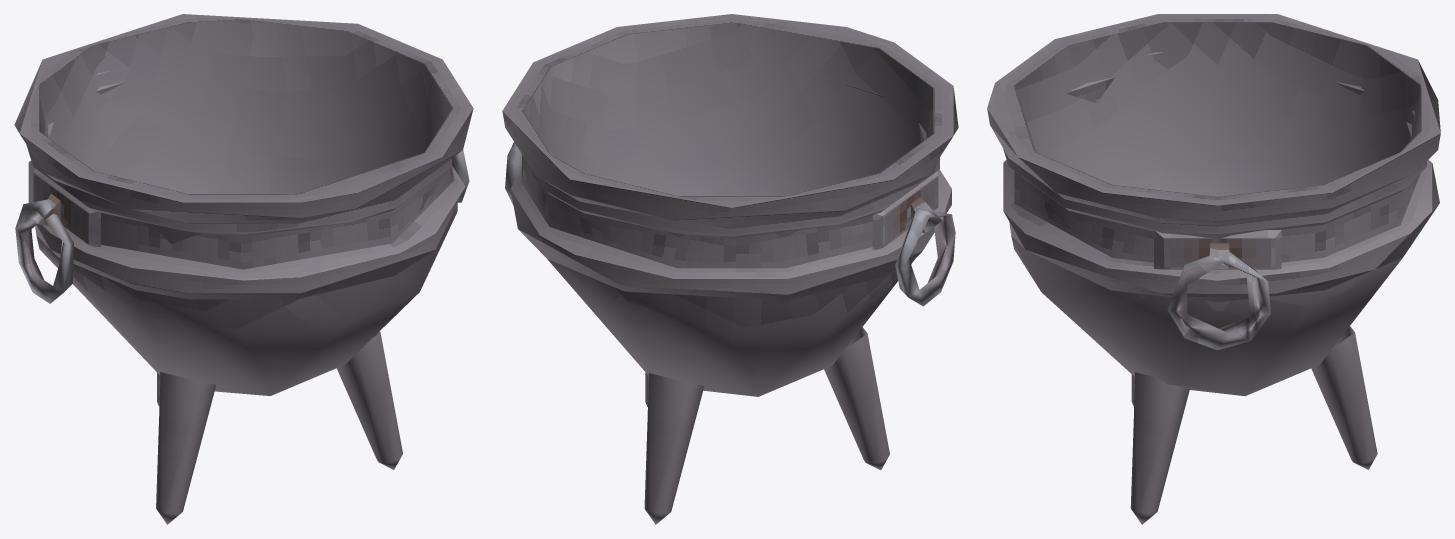
Rendered from cauldron-CMbNTBhX.glb.
The picture shows the model from 3 angles, left to right: view 1: azimuth 30°, elevation 25°; view 2: azimuth 150°, elevation 25°; view 3: azimuth 270°, elevation 25°; orthographic projection.
Bounding box in the file's own units: 0.9844 × 0.8155 × 0.9279.
Materials: 1 (1 with a texture image).
